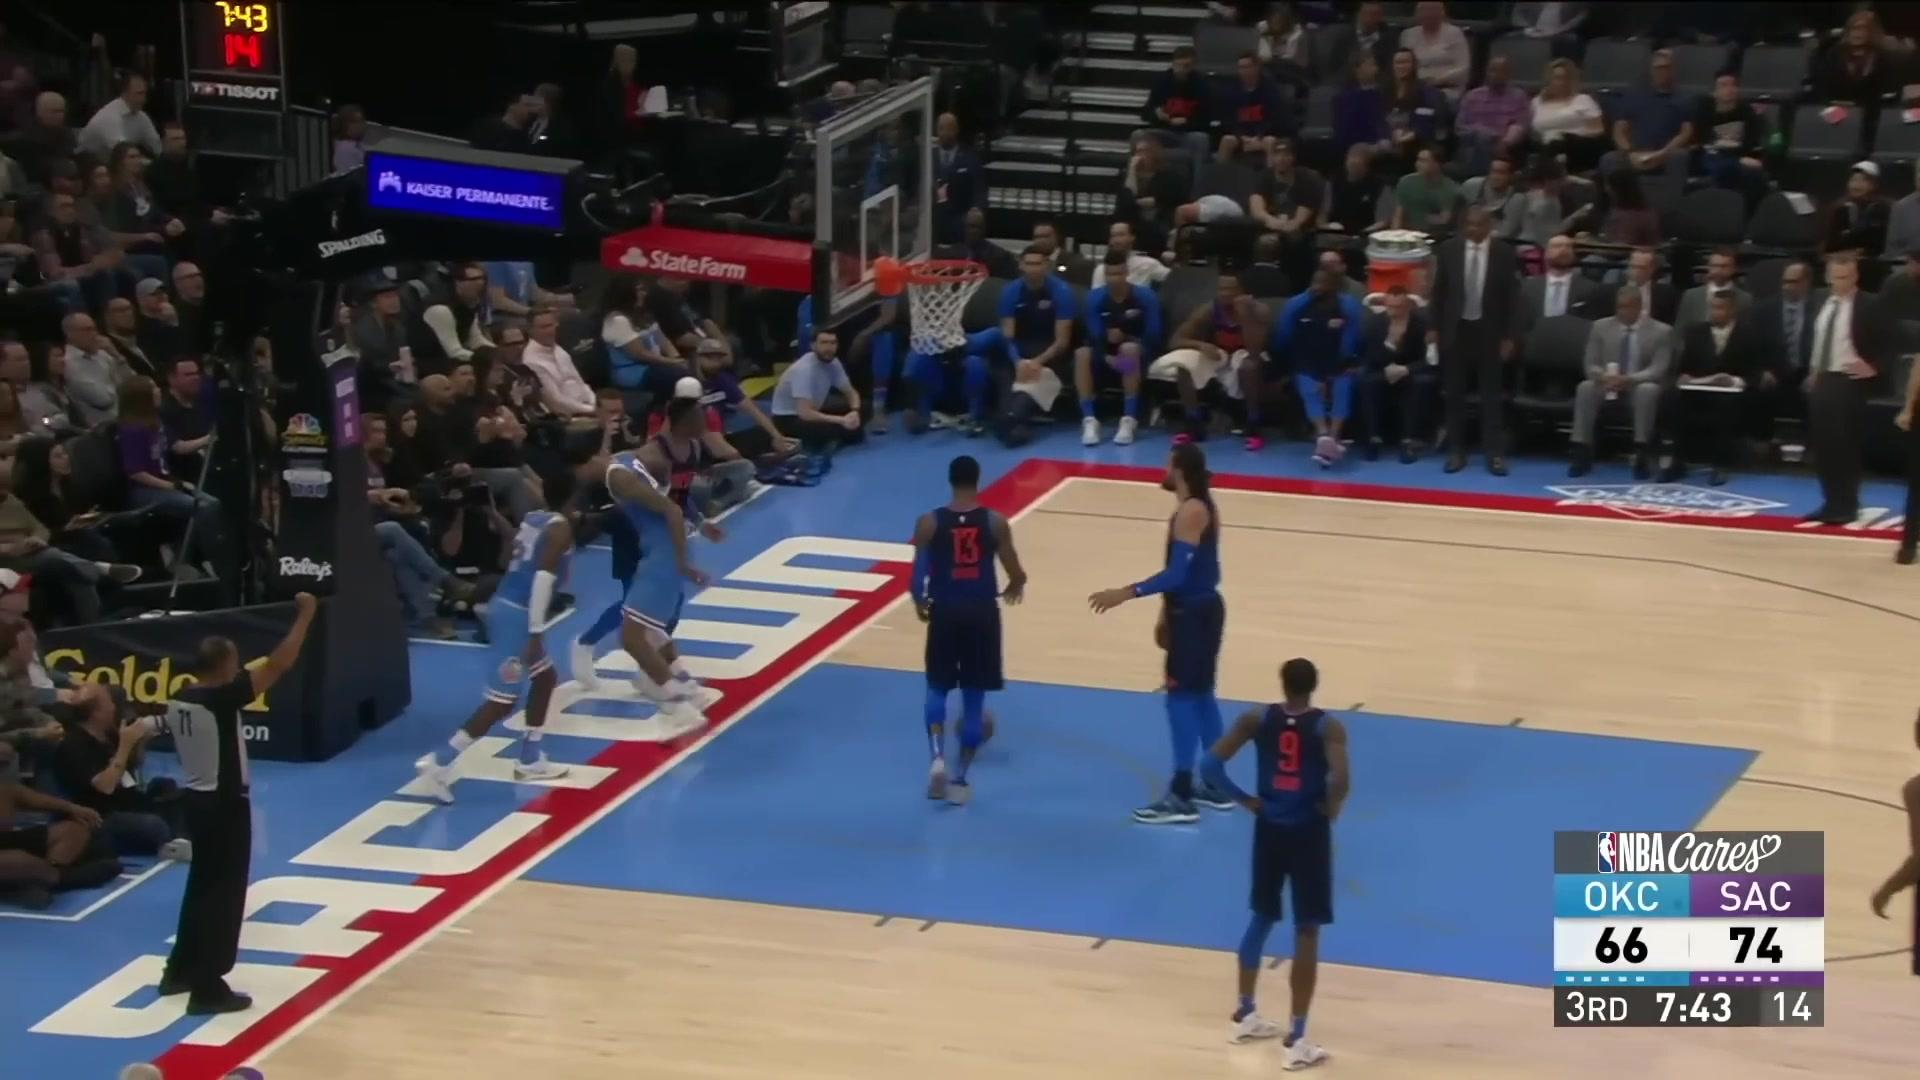foul: (560, 401, 728, 744)
